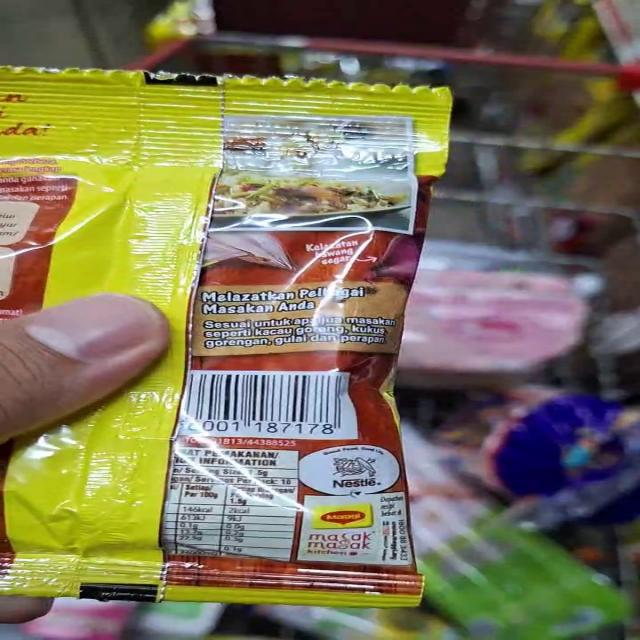Maggi Cukup Rasa: (1, 64, 452, 610)
